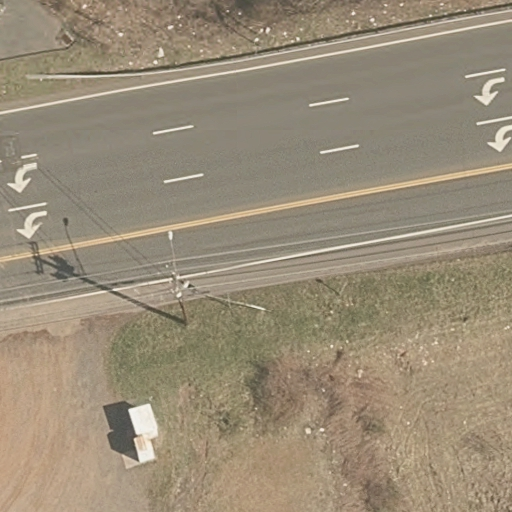DT: (140, 224, 209, 330)
